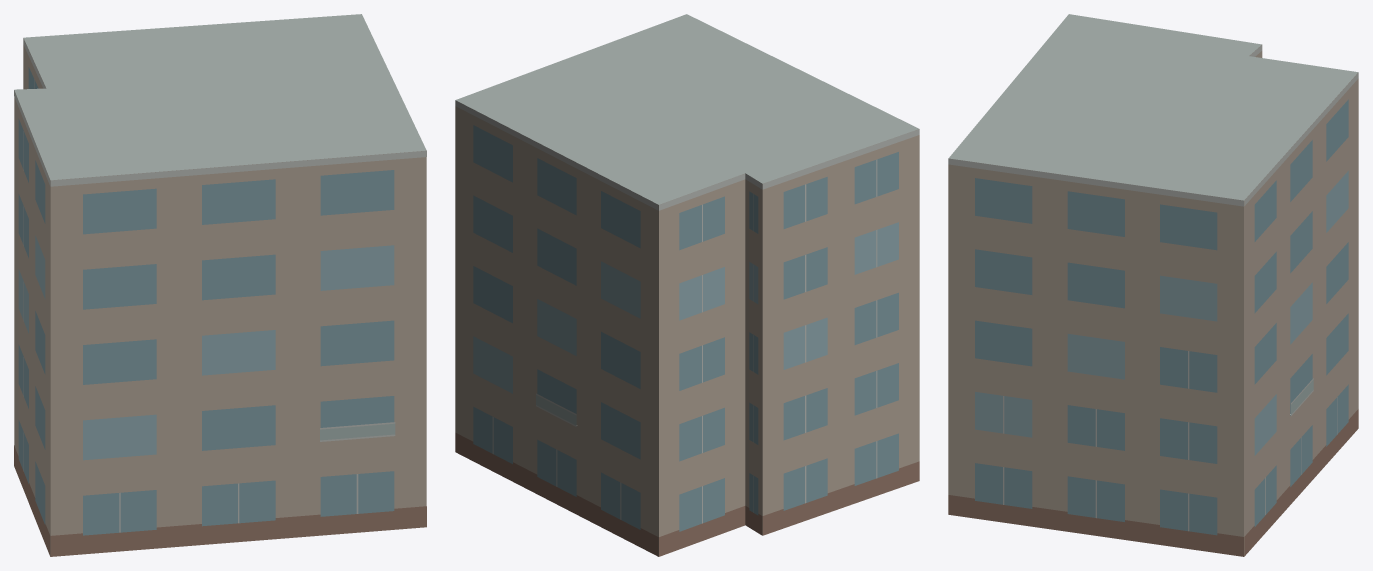
The model's file is survey-upis-32847582.glb.
The picture shows the model from 3 angles, left to right: view 1: azimuth 30°, elevation 25°; view 2: azimuth 150°, elevation 25°; view 3: azimuth 270°, elevation 25°; orthographic projection. The views are drawn at different scales.
Visible parts, largest first — view 1: survey-upis-32847582.tmp; view 2: survey-upis-32847582.tmp; view 3: survey-upis-32847582.tmp.
Boxes of the visible parts, box(x1,y1,x2,y2) form: survey-upis-32847582.tmp: box(14, 14, 426, 556); survey-upis-32847582.tmp: box(455, 14, 919, 556); survey-upis-32847582.tmp: box(948, 14, 1358, 556).
Bounding box in the file's own units: 16.18 × 14.4 × 15.03.
